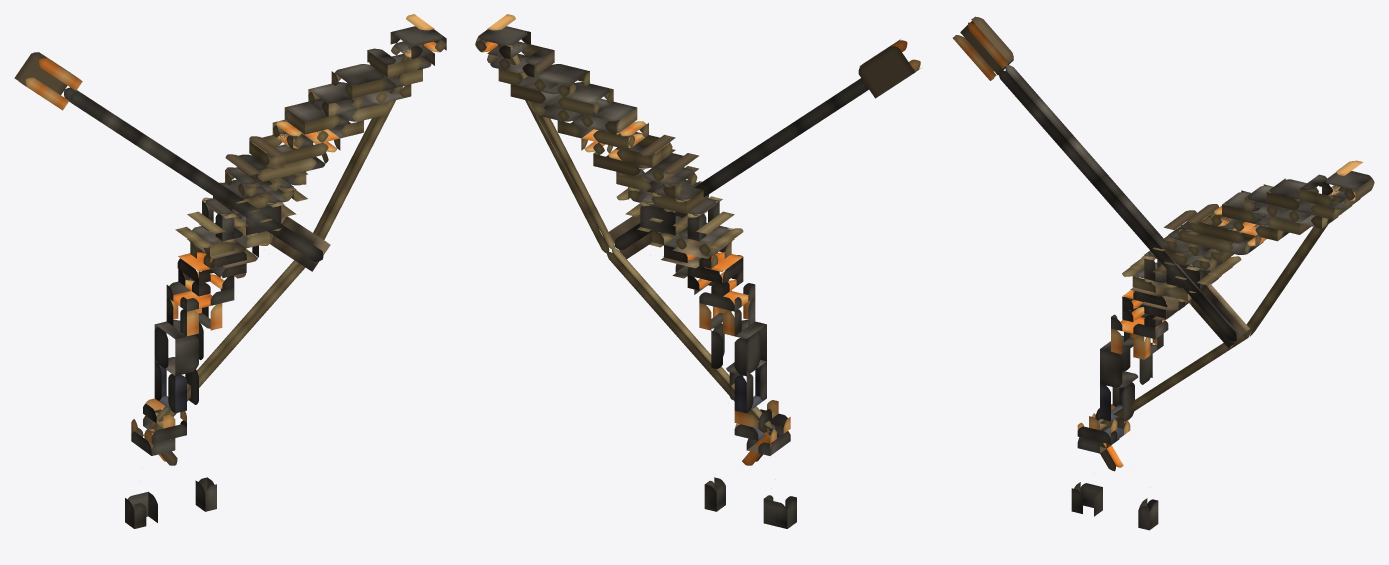
Rendered from noose_bow_pulling_0.obj.
3 renders of one model, left to right at view 1: azimuth 30°, elevation 25°; view 2: azimuth 150°, elevation 25°; view 3: azimuth 330°, elevation 25°, orthographic. The views are drawn at different scales.
Visible parts, largest first — view 1: lit, fire; view 2: lit, fire; view 3: lit, fire.
Boxes of the visible parts, <box> form: lit: <box>14,14,446,528</box>; fire: <box>269,215,330,271</box>; lit: <box>475,14,920,528</box>; fire: <box>609,215,652,258</box>; lit: <box>953,16,1374,530</box>; fire: <box>1188,283,1249,348</box>.
Size of the model in its own units: 1.13 by 1.34 by 0.125.
